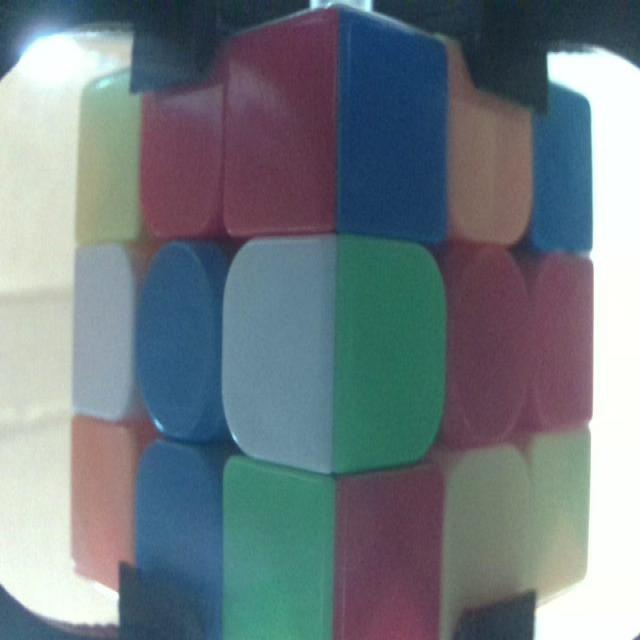b: (340, 15, 448, 236), (139, 438, 222, 639), (136, 252, 221, 438), (538, 78, 594, 254)
g: (335, 244, 444, 457), (220, 468, 334, 640)
o: (449, 44, 536, 248), (69, 419, 137, 587)
r: (224, 12, 334, 235), (336, 472, 442, 640), (143, 40, 227, 238), (449, 259, 531, 435), (536, 255, 596, 423)
w: (223, 240, 332, 472), (72, 244, 132, 419)
y: (446, 446, 531, 640), (78, 76, 145, 242), (538, 438, 592, 597)
